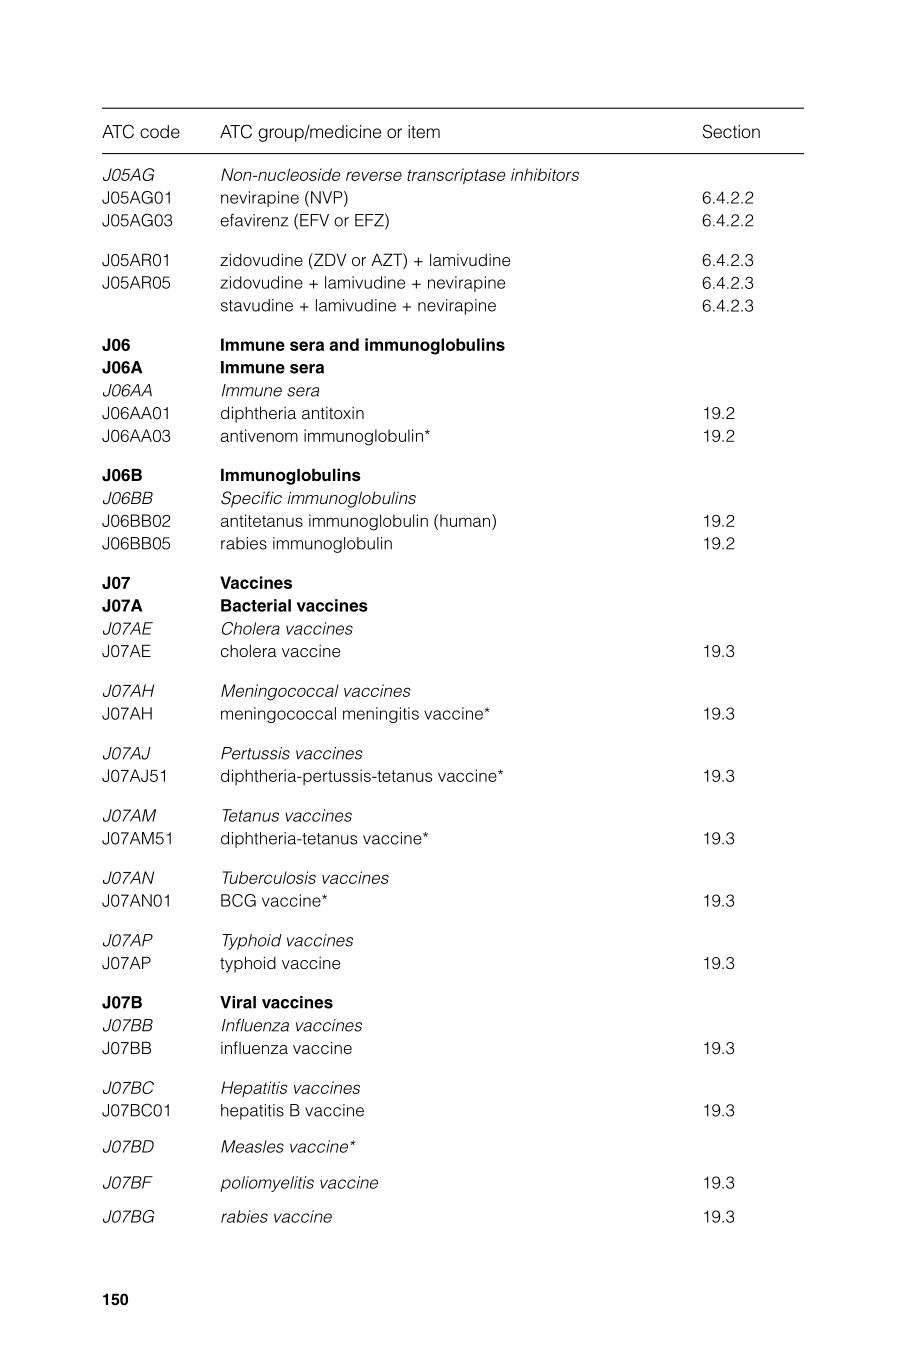partial_lined: (98, 105, 803, 1230)
